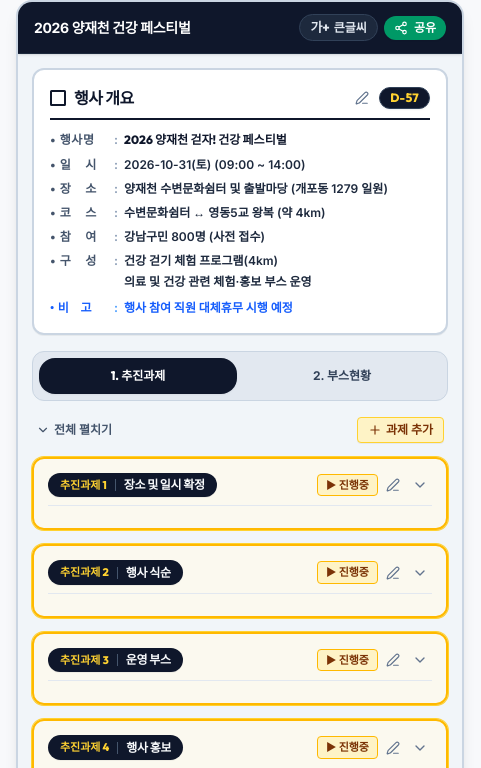
Scenario: Yangjae Festival Real-time Multi-Device Sync & UX Verification › R8. Cooperation Departments Blank Fallback Guard › renders department badges properly when cooperationDepts has valid departments
This screenshot has width=481, height=768.
Click the button "추진과제 1 장소 및 일시 확정". click: (180, 485)
box: [48,473,311,497]
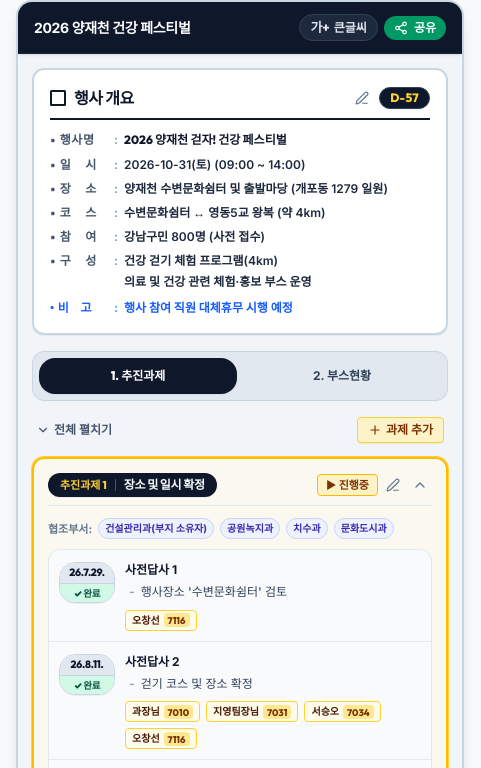
Expected: the text "치수과" is shown, [286,518,328,539]
Expected: the text "공원녹지과" is shown, [220,518,280,539]
